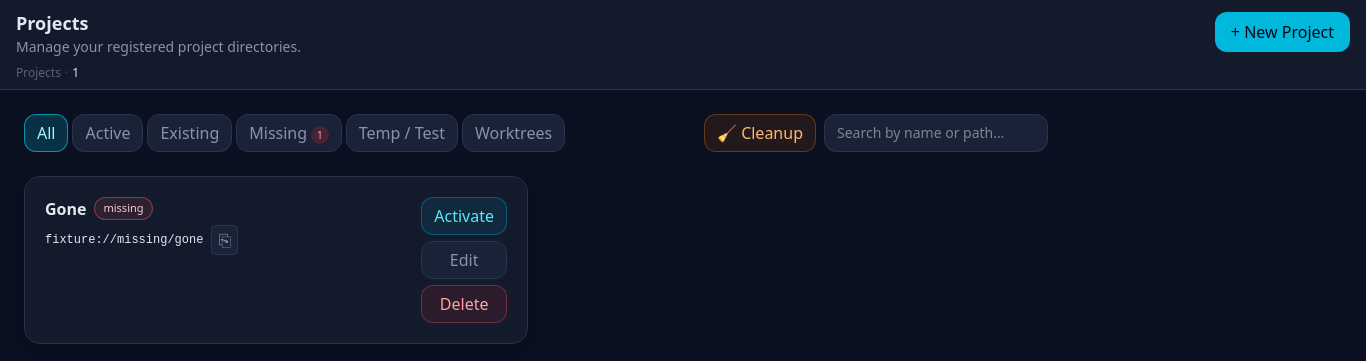
Test: ProjectsPage view filters › shows "No projects match" empty state when filter hides all
Click the tab "Active".
click(108, 132)  # box [72,114,144,152]
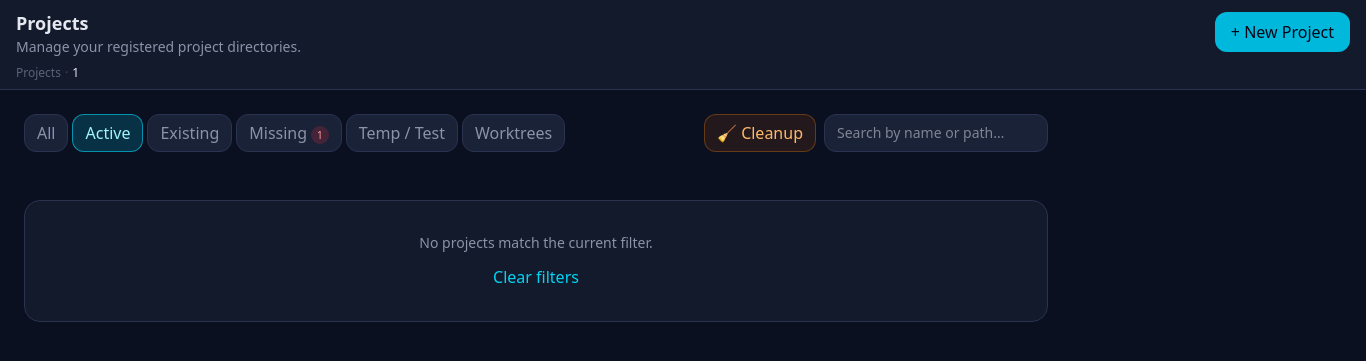
Result: the text "No projects match the current filter." is shown at [419,232,653,252]
